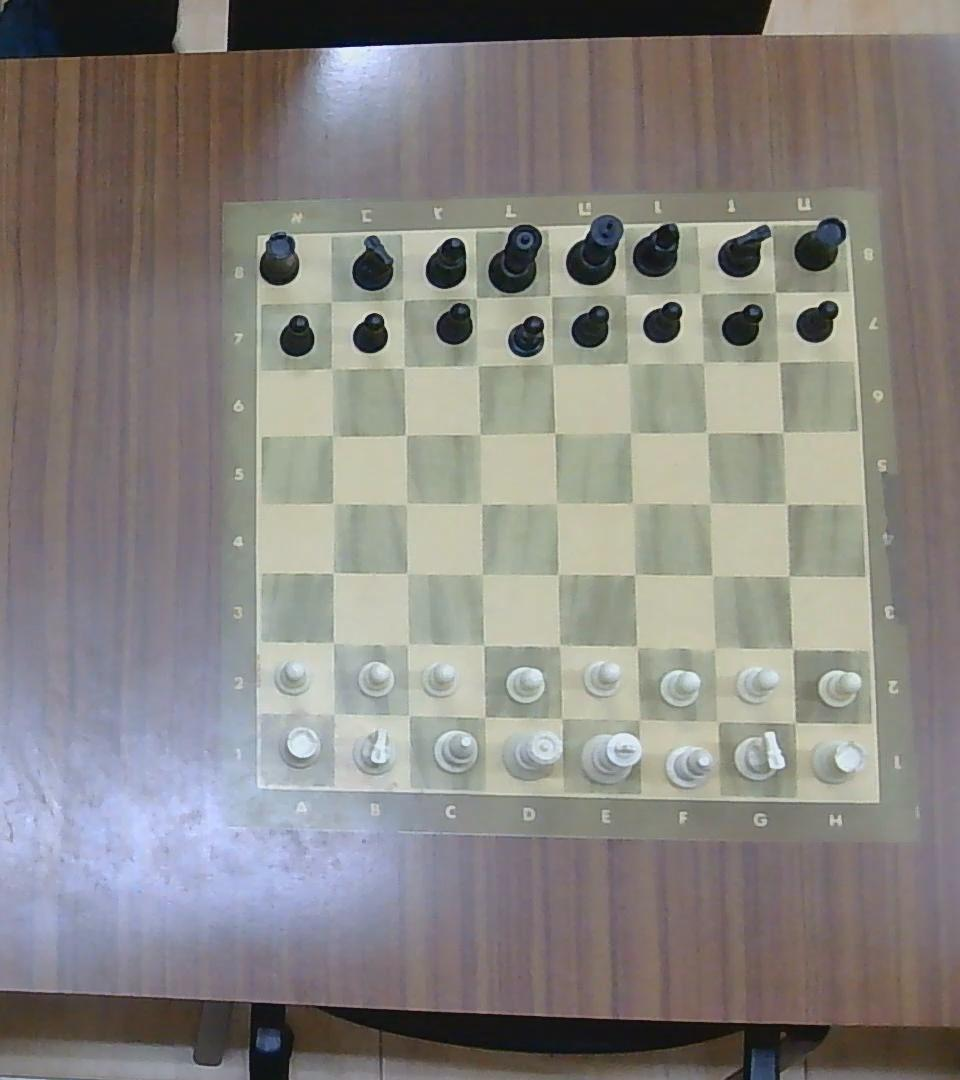xcorner: (618, 629, 653, 663), (620, 701, 654, 735), (699, 703, 732, 737), (543, 700, 576, 734), (776, 705, 810, 738), (697, 631, 731, 664), (541, 628, 575, 660), (467, 699, 500, 731), (392, 699, 423, 731), (318, 698, 349, 729), (619, 558, 650, 589), (468, 629, 499, 659), (543, 558, 573, 589), (317, 627, 347, 658), (776, 634, 807, 664), (772, 560, 803, 590), (392, 629, 422, 659), (466, 558, 496, 588), (697, 560, 727, 590), (392, 557, 422, 586), (618, 488, 648, 517), (317, 557, 346, 586), (466, 488, 495, 517), (461, 282, 490, 311), (542, 488, 571, 517), (694, 488, 723, 517), (615, 417, 644, 446), (319, 487, 348, 515), (536, 281, 565, 309), (388, 284, 416, 313), (611, 279, 639, 307), (316, 286, 345, 313), (537, 349, 566, 376), (317, 420, 345, 447), (317, 354, 345, 381), (392, 489, 420, 516), (388, 352, 416, 379), (464, 350, 492, 377), (540, 418, 568, 445), (693, 418, 721, 445), (614, 349, 642, 376), (771, 490, 801, 515), (767, 419, 796, 444), (688, 280, 714, 306), (390, 421, 417, 446), (762, 279, 789, 304), (466, 420, 491, 446), (690, 348, 715, 373), (766, 349, 791, 372)
